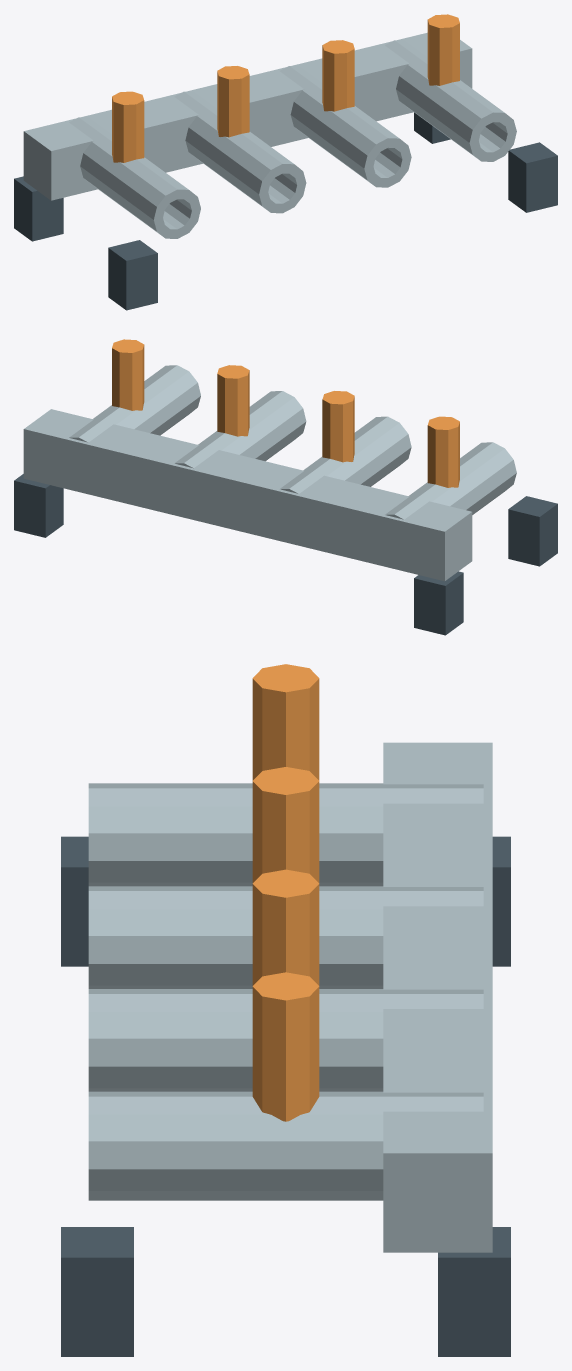
Rendered from four-branch-manifold.glb.
3 renders of one model, top to bottom at view 1: azimuth 30°, elevation 25°; view 2: azimuth 150°, elevation 25°; view 3: azimuth 270°, elevation 25°, orthographic. The views are drawn at different scales.
Parts seen in each view (by area): view 1: steel, dark, orange; view 2: steel, orange, dark; view 3: steel, orange, dark.
Boxes of the visible parts, left/top/right/bottom form: steel: left=23, top=32, right=516, bottom=238; dark: left=14, top=112, right=557, bottom=310; orange: left=112, top=14, right=459, bottom=162; steel: left=23, top=365, right=516, bottom=581; orange: left=112, top=339, right=459, bottom=487; dark: left=14, top=474, right=557, bottom=635; steel: left=88, top=742, right=492, bottom=1252; orange: left=252, top=664, right=319, bottom=1121; dark: left=61, top=836, right=510, bottom=1356.
Bounding box in the file's own units: 1.64 × 0.57 × 0.74.
